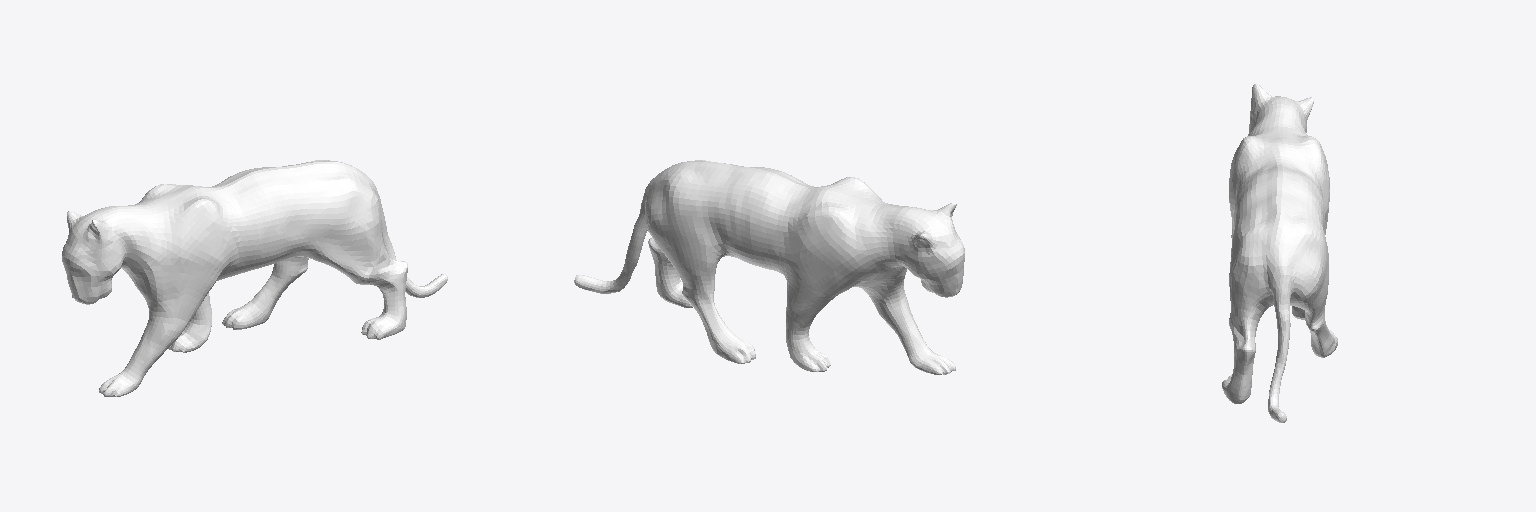
The model's file is Tiger.obj.
The picture shows the model from 3 angles: view 1: azimuth 30°, elevation 25°; view 2: azimuth 150°, elevation 25°; view 3: azimuth 270°, elevation 25°; orthographic projection.
Parts seen in each view (by area): view 1: LowPoly; view 2: LowPoly; view 3: LowPoly.
Part boxes in pixels (bbox=[...]): LowPoly: bbox=[62, 160, 447, 396]; LowPoly: bbox=[574, 160, 964, 374]; LowPoly: bbox=[1222, 84, 1337, 422].
Bounding box in the file's own units: 55.48 × 24.01 × 14.6.